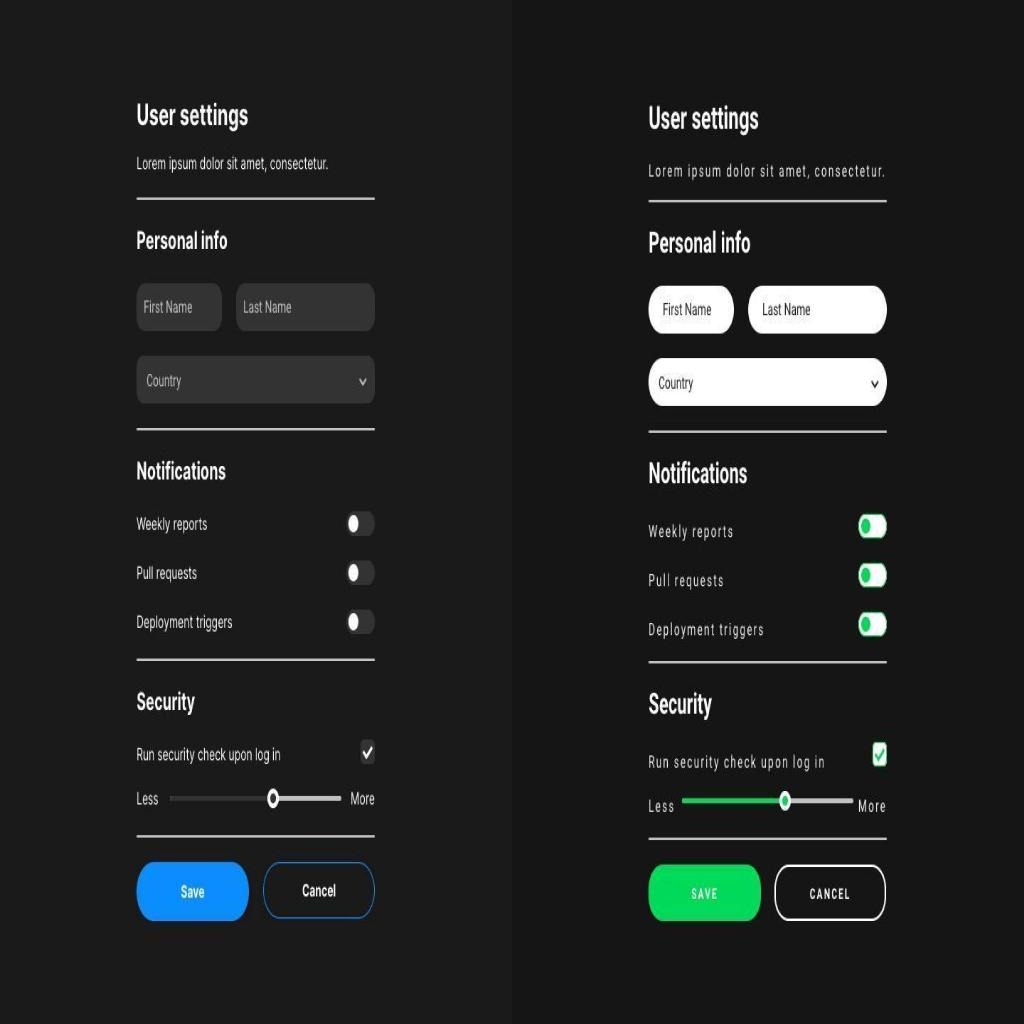button: (136, 861, 249, 921), (262, 862, 376, 920), (774, 863, 886, 921), (649, 865, 760, 921)
checkbox: (360, 740, 375, 764), (873, 743, 887, 767)
dropdown: (137, 354, 375, 406), (648, 358, 886, 407)
input: (236, 281, 376, 331), (748, 286, 887, 335), (136, 282, 222, 332), (648, 287, 734, 335)
label: (644, 747, 826, 779), (134, 94, 252, 138), (644, 101, 764, 142), (647, 220, 753, 264), (134, 738, 282, 769), (640, 455, 757, 486), (642, 676, 720, 722), (133, 229, 230, 264), (135, 451, 226, 488), (647, 618, 766, 644), (644, 515, 738, 546), (646, 567, 726, 596), (135, 611, 234, 634), (132, 689, 202, 721), (137, 515, 211, 540), (134, 559, 198, 586), (347, 782, 378, 816), (644, 795, 678, 823), (135, 788, 162, 816), (857, 797, 891, 819)
switch: (346, 608, 376, 636), (346, 560, 374, 588), (347, 512, 375, 538), (858, 514, 887, 538), (858, 563, 887, 587), (858, 612, 887, 636)
